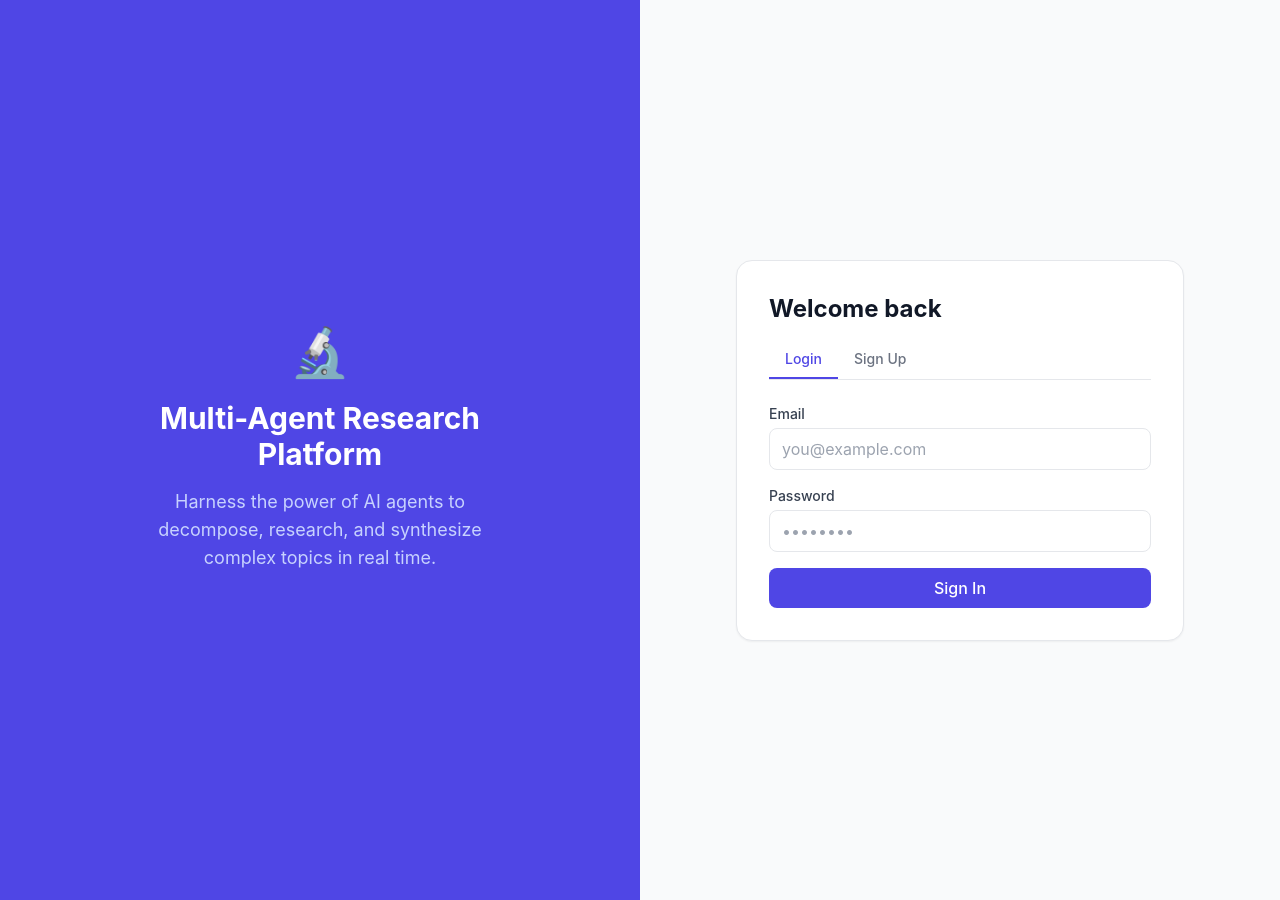
Test: AuthPage › Sign Up form has email, password, and confirm-password fields
Click the button "Sign Up" at (880, 364), box [838,348,922,378]
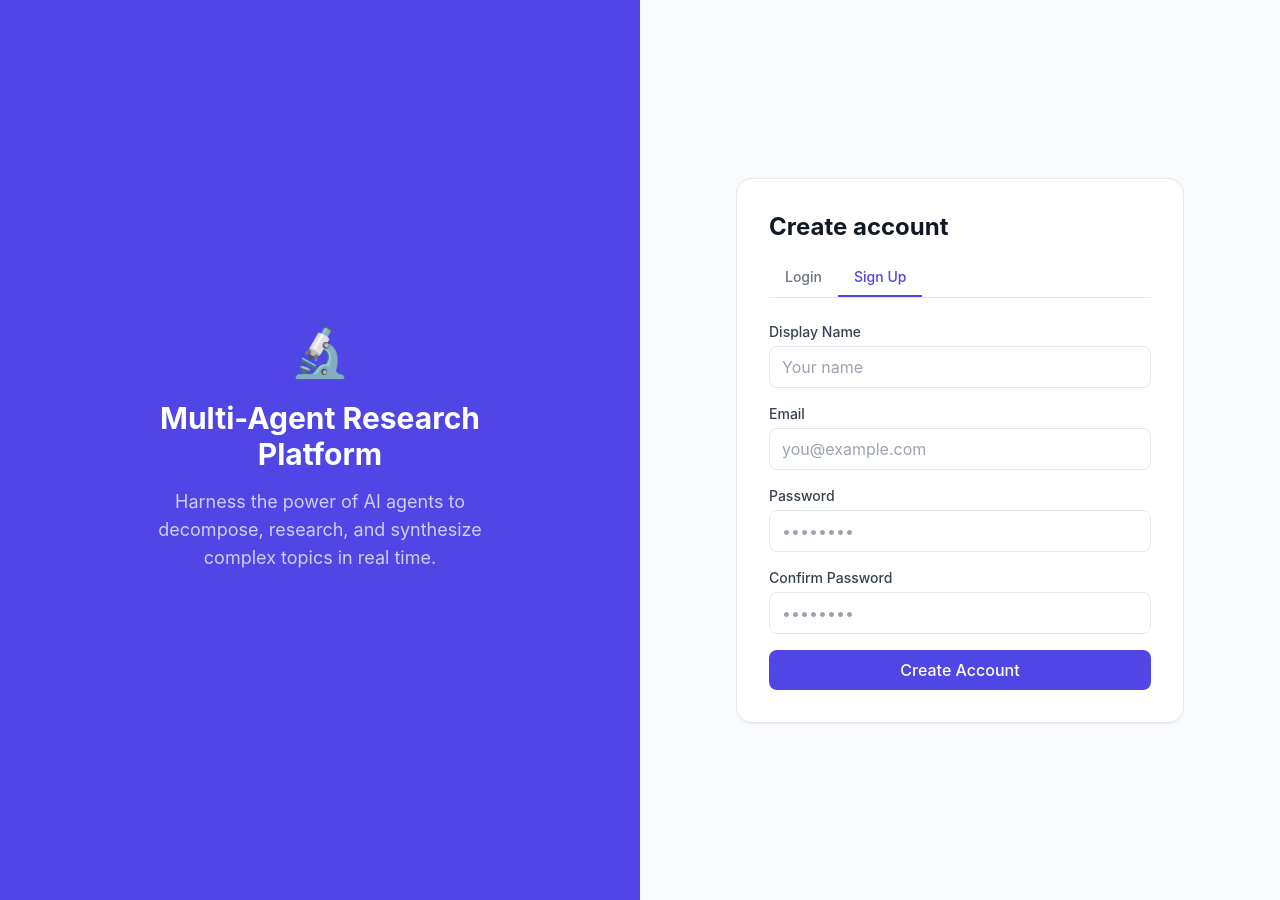
Check: the field labelled "Email" is shown, box [769,428,1151,470]
Check: the password field labelled "Confirm Password" is shown, box [769,592,1151,634]
